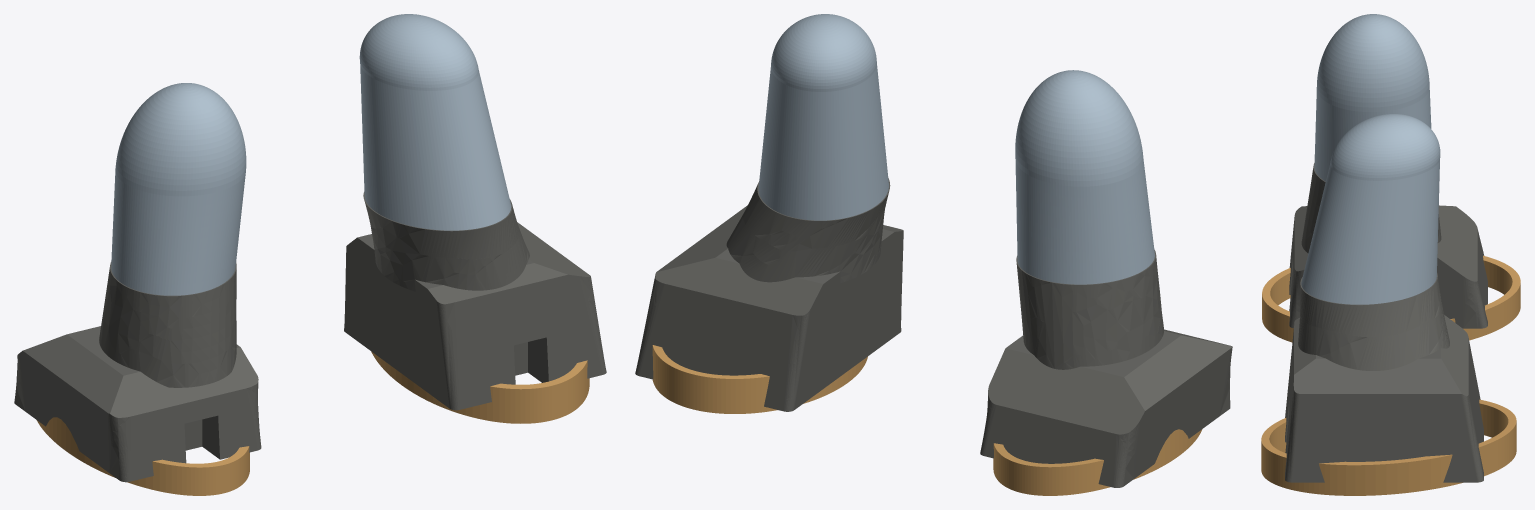
The model's file is soft_addons_scanfit.glb.
3 views of the same model, side by side, from view 1: azimuth 30°, elevation 25°; view 2: azimuth 150°, elevation 25°; view 3: azimuth 270°, elevation 25° (orthographic). The views are drawn at different scales.
Visible parts, largest first — view 1: foam_R, foam_L, cot_R, cot_L, band_R, band_L; view 2: foam_R, foam_L, cot_L, cot_R, band_R, band_L; view 3: foam_R, cot_R, cot_L, band_R, foam_L, band_L.
Boxes of the visible parts, x1,y1,x2,y2 form: foam_R: (344,192,606,410); foam_L: (14,262,261,482); cot_R: (359,14,511,230); cot_L: (111,83,246,295); band_R: (371,351,589,423); band_L: (36,417,249,495); foam_R: (635,178,903,411); foam_L: (980,249,1232,487); cot_L: (1015,70,1154,284); cot_R: (758,14,888,220); band_R: (652,345,867,413); band_L: (993,429,1202,495); foam_R: (1285,273,1483,482); cot_R: (1301,114,1440,304); cot_L: (1314,14,1431,181); band_R: (1261,399,1516,495); foam_L: (1289,163,1487,328); band_L: (1262,255,1520,342).
Bounding box in the file's own units: 0.0759 × 0.0528 × 0.0384.
